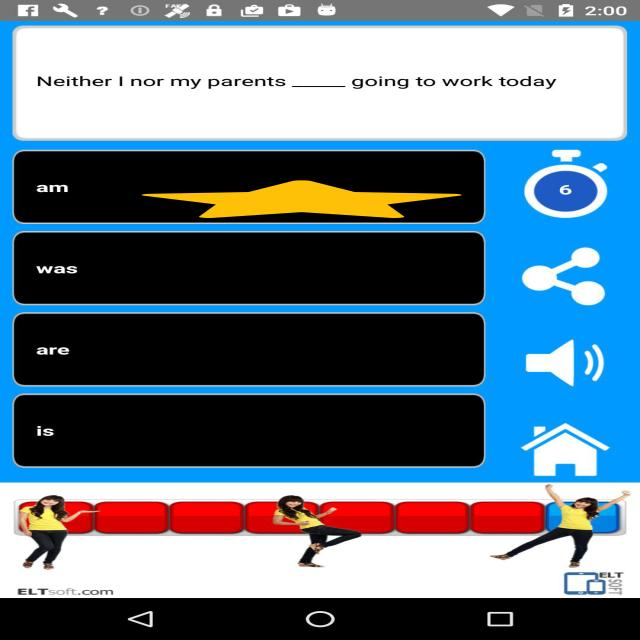forced continuity: (142, 180, 462, 218)
